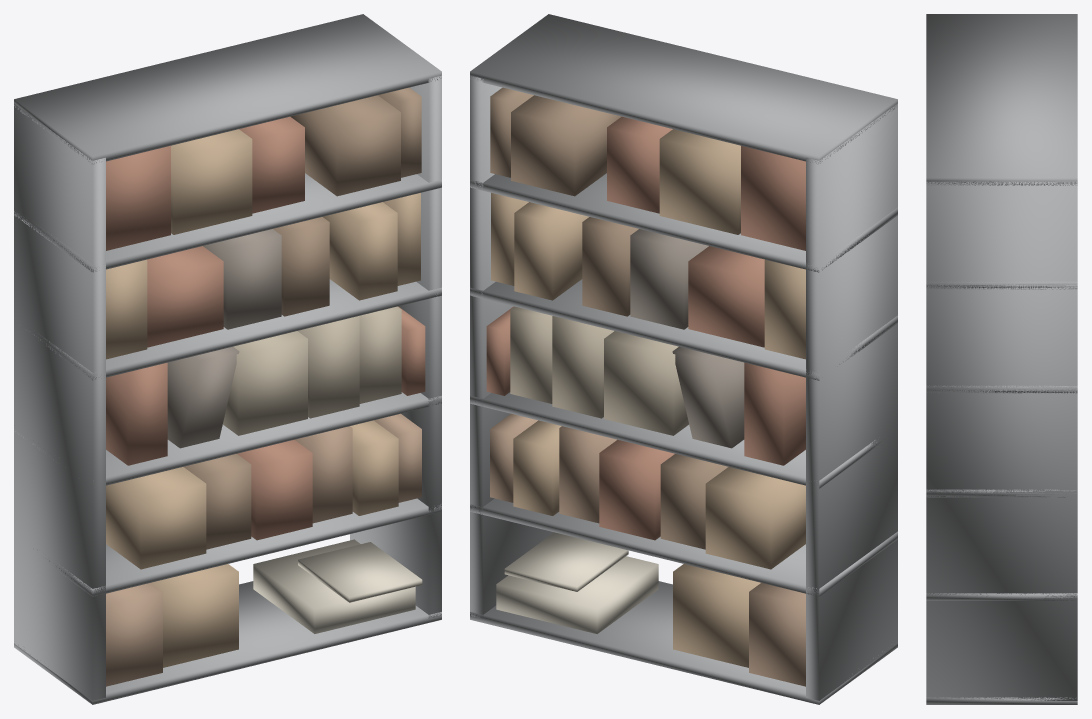
Rendered from Rak_Arsip_Dengan_Berkas.fbx.
The picture shows the model from 3 angles, left to right: view 1: azimuth 30°, elevation 25°; view 2: azimuth 150°, elevation 25°; view 3: azimuth 270°, elevation 25°; orthographic projection. The views are drawn at different scales.
Parts seen in each view (by area): view 1: Rak_Arsip_Dengan_Berkas; view 2: Rak_Arsip_Dengan_Berkas; view 3: Rak_Arsip_Dengan_Berkas.
Part boxes in pixels (<box>): Rak_Arsip_Dengan_Berkas: <box>14,14,441,704</box>; Rak_Arsip_Dengan_Berkas: <box>470,14,897,704</box>; Rak_Arsip_Dengan_Berkas: <box>926,14,1077,704</box>.
Size of the model in its own units: 1.59 by 2.39 by 0.62.
